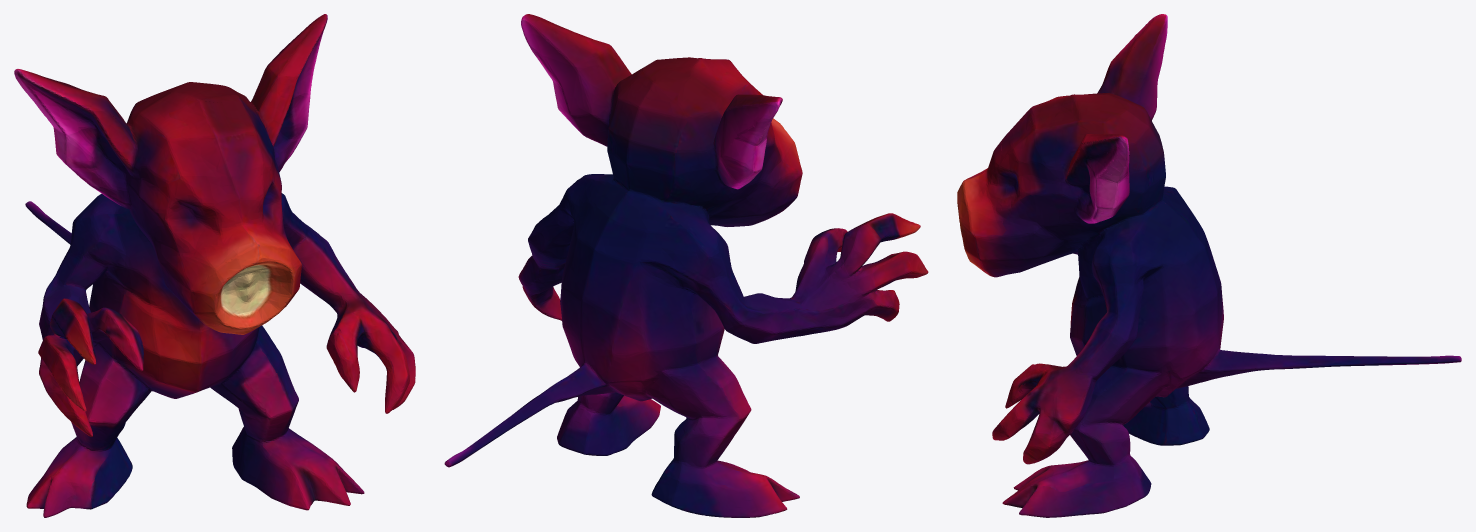
File: LEECHSPRITE.glb
The picture shows the model from 3 angles, left to right: view 1: azimuth 30°, elevation 25°; view 2: azimuth 150°, elevation 25°; view 3: azimuth 270°, elevation 25°; orthographic projection. The views are drawn at different scales.
Visible parts, largest first — view 1: LEECHSPRITE_512; view 2: LEECHSPRITE_512; view 3: LEECHSPRITE_512.
Boxes of the visible parts, bbox=[...] form: LEECHSPRITE_512: bbox=[14, 14, 415, 517]; LEECHSPRITE_512: bbox=[444, 14, 928, 517]; LEECHSPRITE_512: bbox=[957, 14, 1461, 517].
Size of the model in its own units: 1.56 by 1.7 by 1.99.
Materials: 1 (1 with a texture image).
